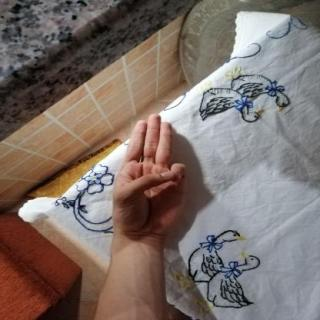THA: (101, 107, 197, 241)
